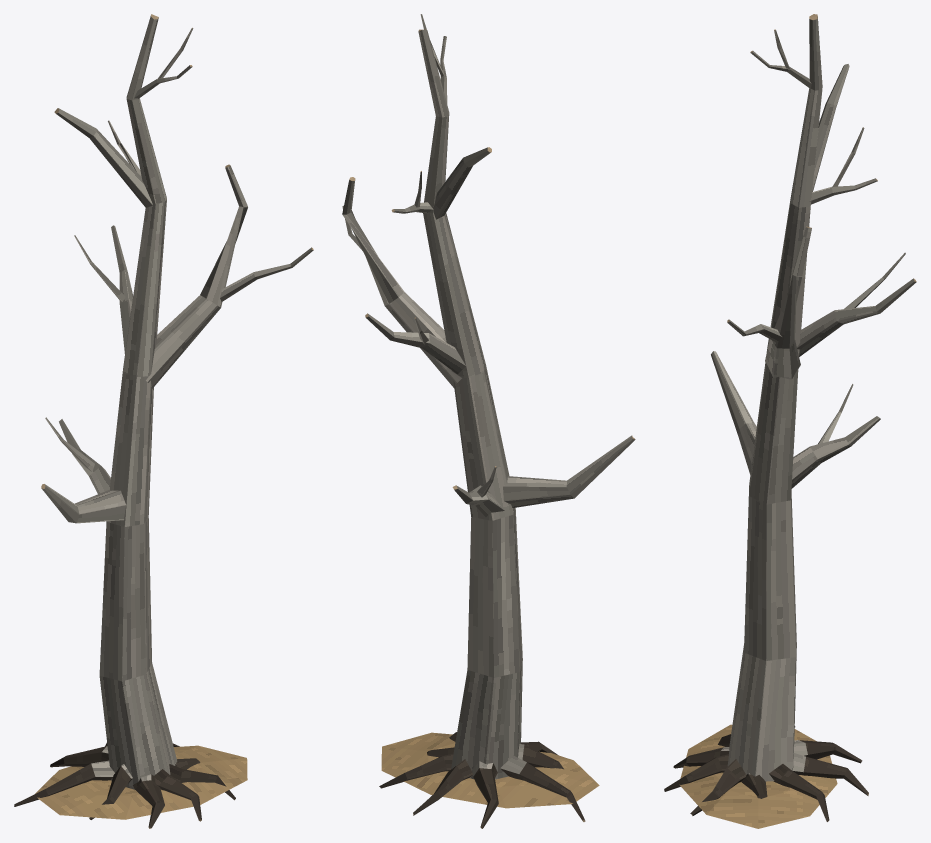
File: cedar-snag.glb
3 views of the same model, side by side, from view 1: azimuth 30°, elevation 25°; view 2: azimuth 150°, elevation 25°; view 3: azimuth 270°, elevation 25° (orthographic). The views are drawn at different scales.
Parts seen in each view (by area): view 1: cedar-snag; view 2: cedar-snag; view 3: cedar-snag.
Boxes of the visible parts, box(x1,y1,x2,y2) form: cedar-snag: box(14, 14, 313, 828); cedar-snag: box(342, 14, 635, 828); cedar-snag: box(664, 14, 916, 828).
Size of the model in its own units: 4.14 by 10.6 by 3.07.
Materials: 4 (4 with a texture image).
